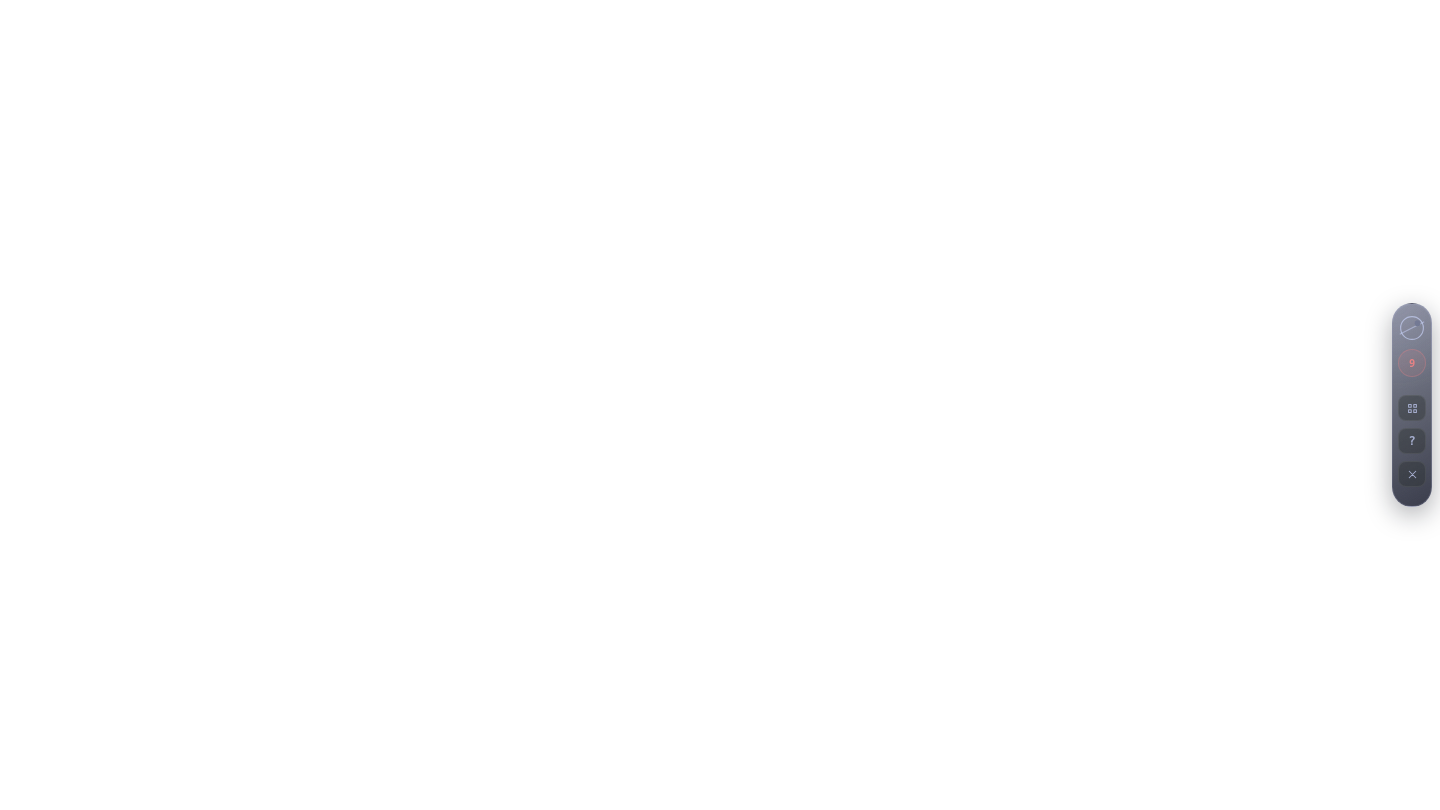
it: summoned hud › cycles collapsed updates with alternate arrow keys and opens the selected terminal
Click the button named "Runtime demo; toggle focus drawer": {"x": 1412, "y": 328} x1=1398 y1=314 x2=1426 y2=342
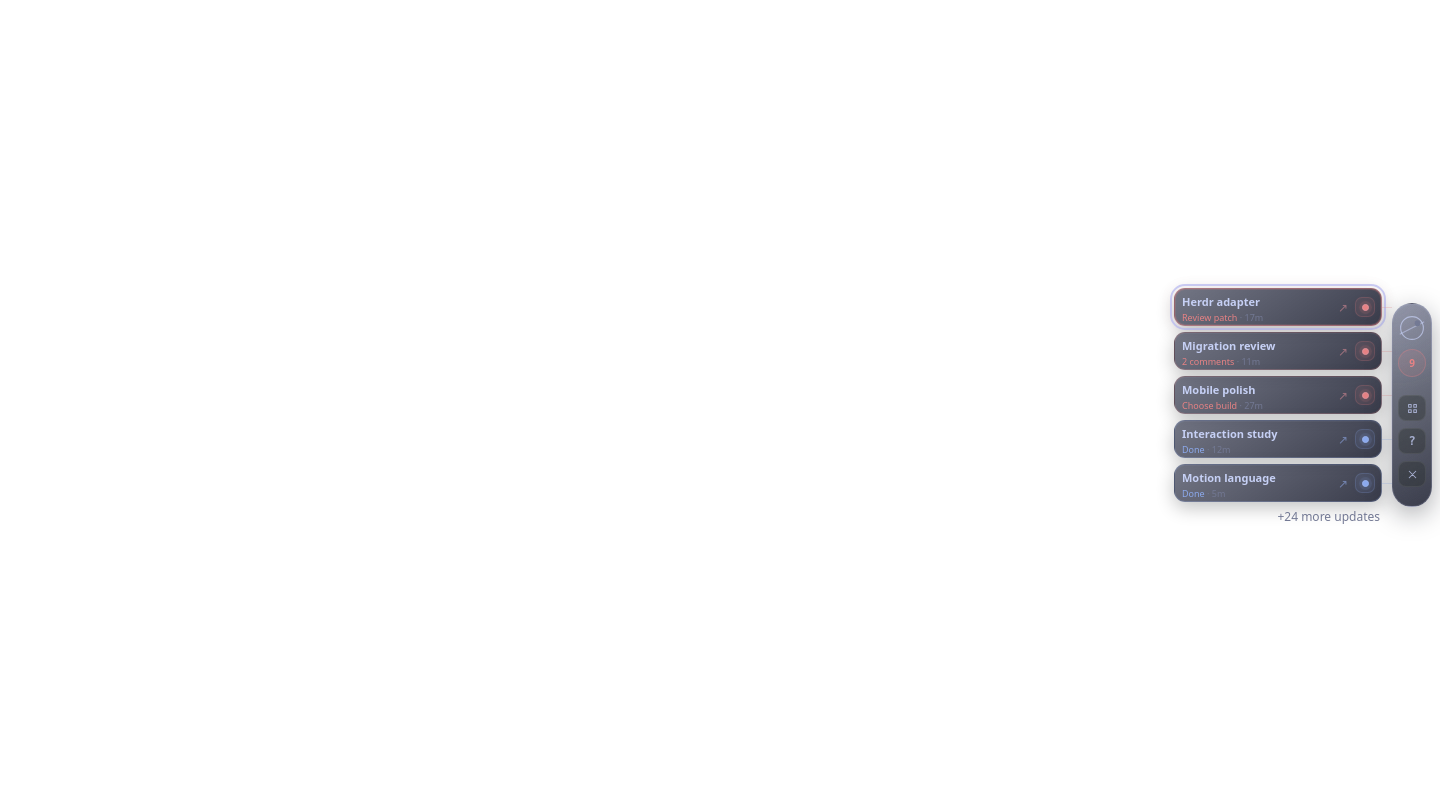
Press ArrowDown
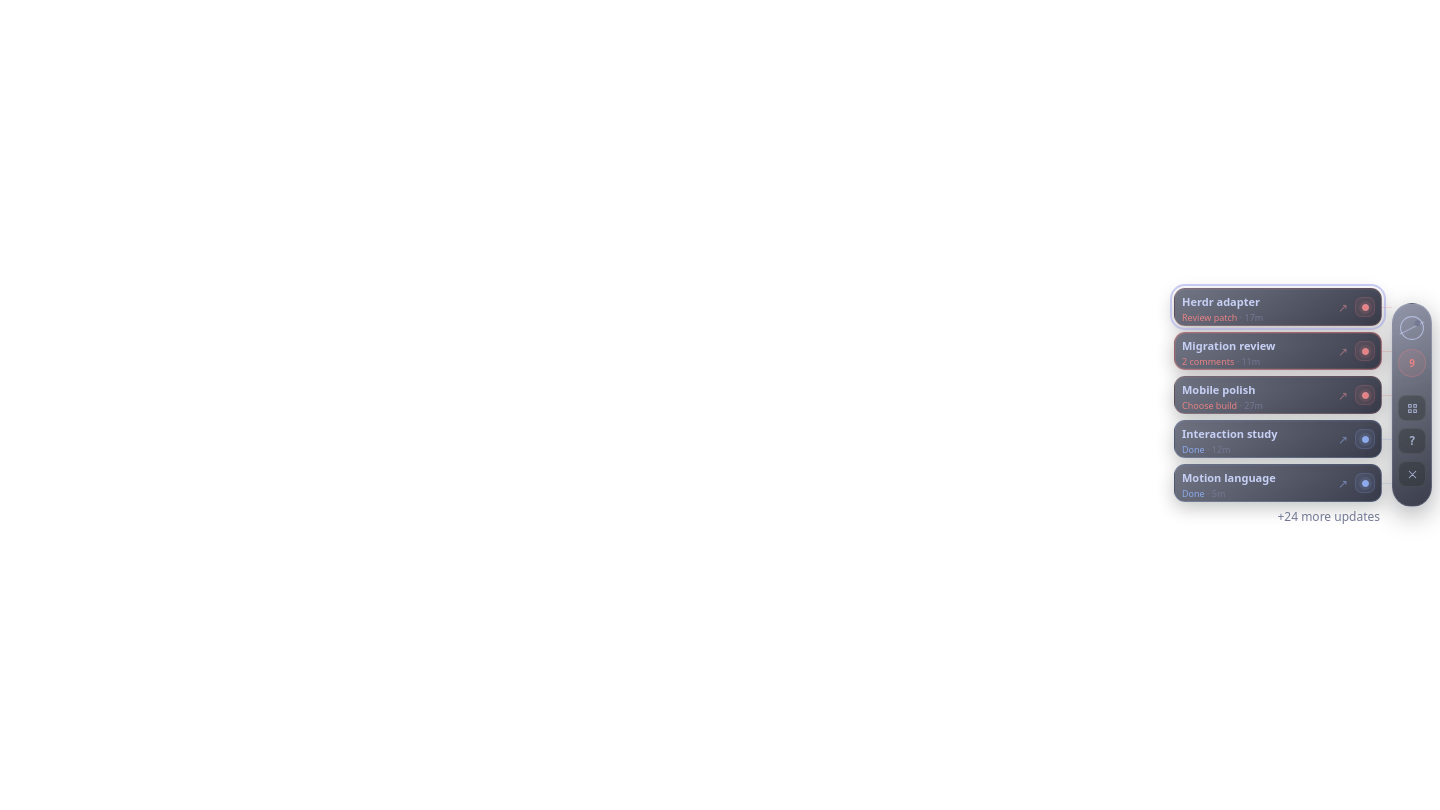
Press Enter
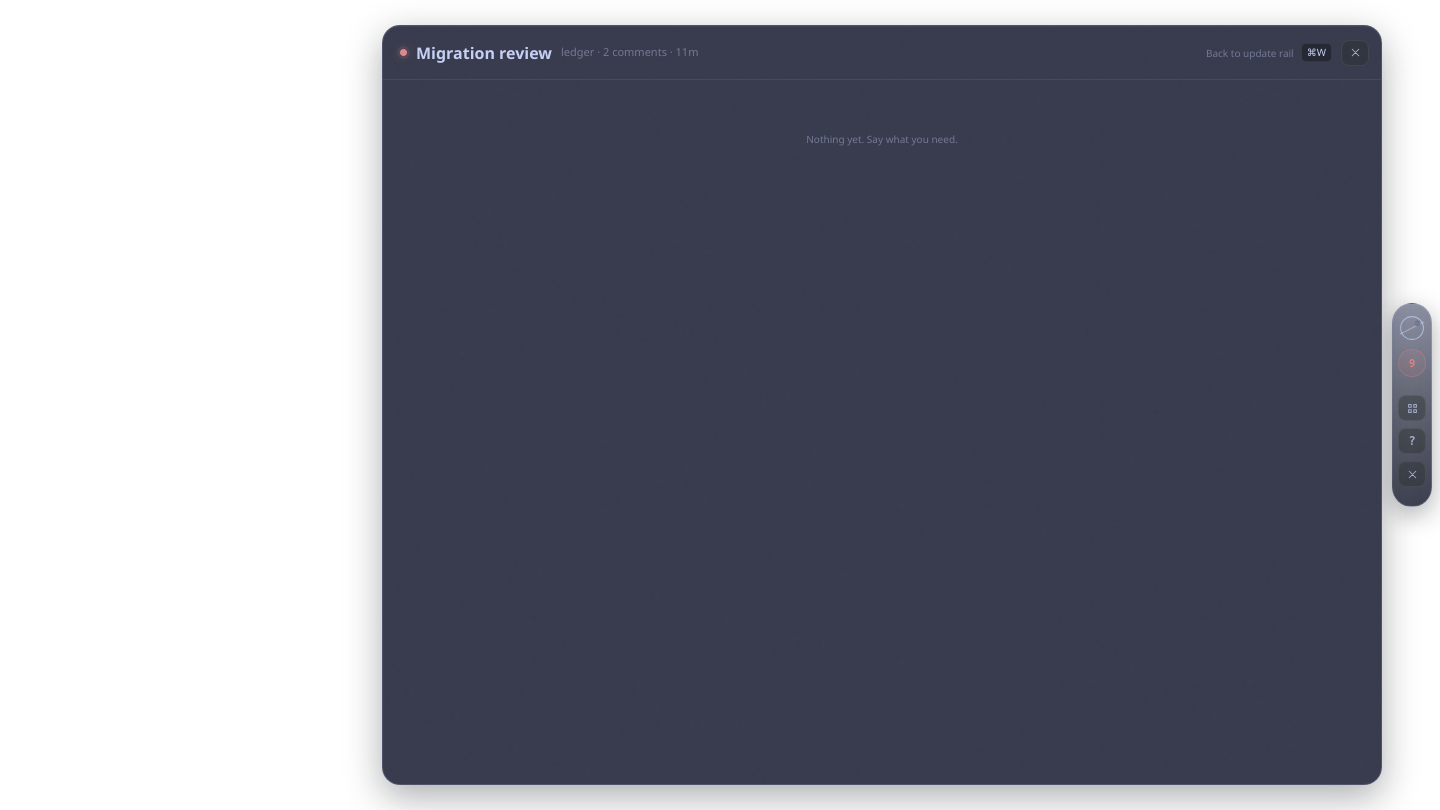
Check: the element named "Terminal for Migration review" is shown
